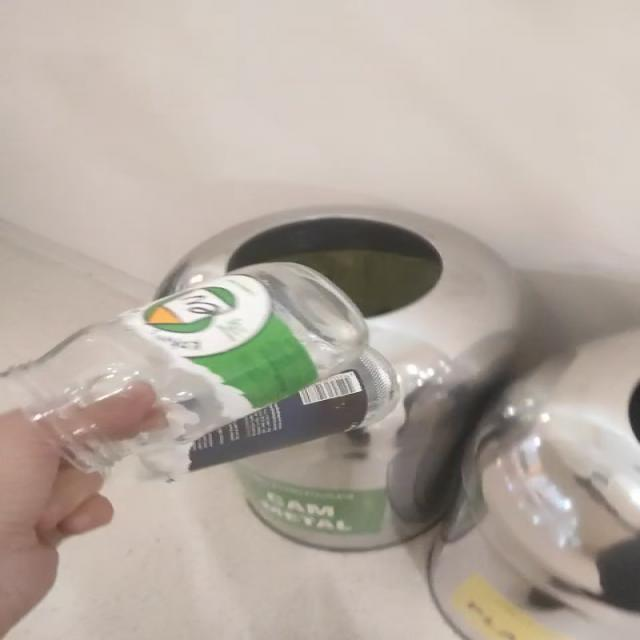Glass: (1, 263, 397, 479)
